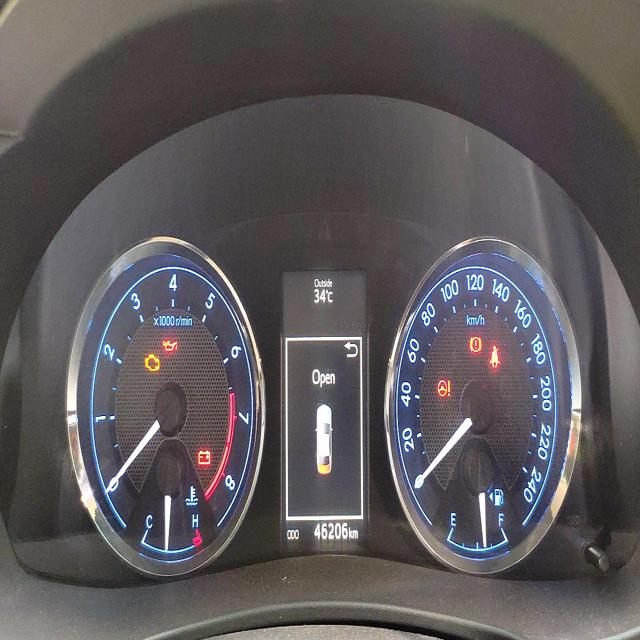odometer: (312, 519, 349, 543)
